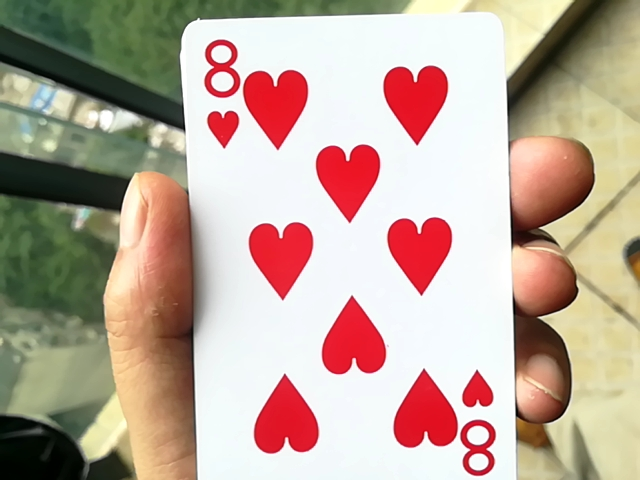hx 8: (164, 1, 514, 476)
